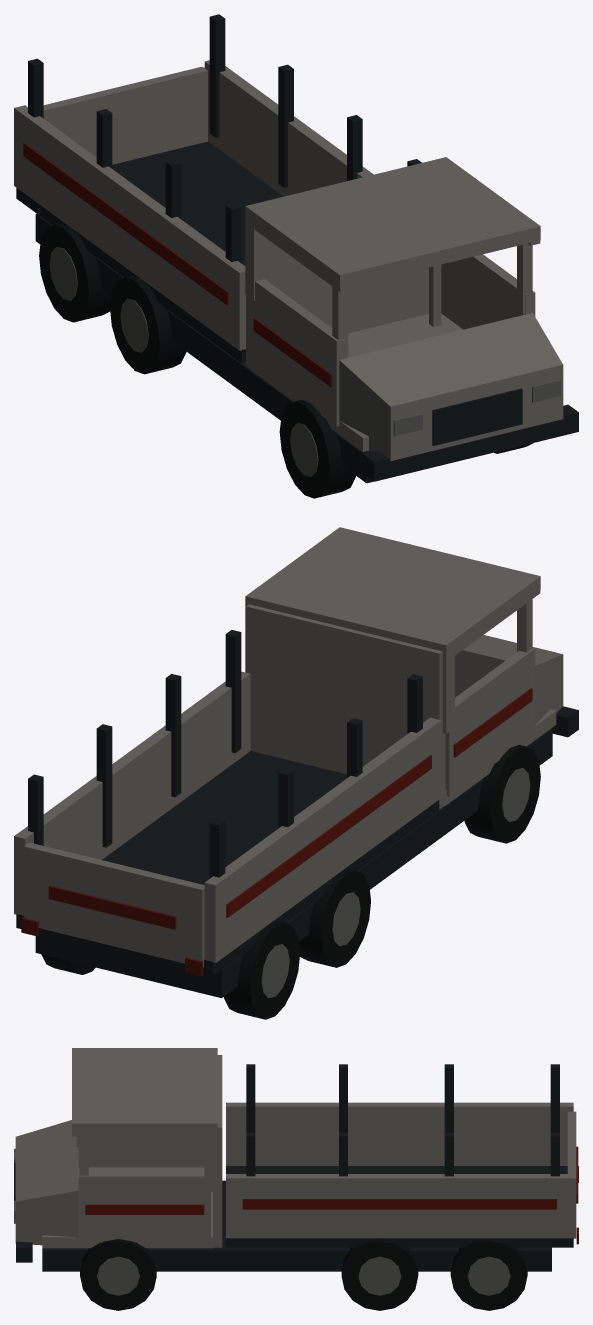
The picture shows the model from 3 angles, top to bottom: view 1: azimuth 30°, elevation 25°; view 2: azimuth 150°, elevation 25°; view 3: azimuth 270°, elevation 25°; orthographic projection. The views are drawn at different scales.
Visible parts, largest first — view 1: cargo-transport-painted, cargo-ramp-painted, wheel--1-2.7-fleet-rubber, wheel--1--1.25-fleet-rubber, wheel--1--2.9-fleet-rubber, wheel--1--2.9-fleet-edge, wheel--1-2.7-fleet-edge, wheel--1--1.25-fleet-edge; view 2: cargo-transport-painted, cargo-ramp-painted, wheel--1-2.7-fleet-rubber, wheel--1--2.9-fleet-rubber, wheel--1--1.25-fleet-rubber, wheel--1--1.25-fleet-edge, wheel--1-2.7-fleet-edge, wheel--1--2.9-fleet-edge; view 3: cargo-transport-painted, wheel-1--2.9-fleet-rubber, wheel-1--1.25-fleet-rubber, wheel-1-2.7-fleet-rubber, wheel-1--2.9-fleet-edge, wheel-1--1.25-fleet-edge, wheel-1-2.7-fleet-edge, cargo-ramp-painted.
Boxes of the visible parts, x1,y1,x2,y2 form: cargo-transport-painted: [14, 14, 578, 483]; cargo-ramp-painted: [43, 66, 207, 164]; wheel--1-2.7-fleet-rubber: [279, 399, 355, 498]; wheel--1--1.25-fleet-rubber: [110, 275, 186, 374]; wheel--1--2.9-fleet-rubber: [39, 223, 111, 322]; wheel--1--2.9-fleet-edge: [49, 247, 77, 300]; wheel--1-2.7-fleet-edge: [290, 423, 318, 476]; wheel--1--1.25-fleet-edge: [120, 299, 148, 352]; cargo-transport-painted: [14, 527, 578, 998]; cargo-ramp-painted: [23, 842, 204, 967]; wheel--1-2.7-fleet-rubber: [464, 744, 540, 843]; wheel--1--2.9-fleet-rubber: [224, 920, 300, 1019]; wheel--1--1.25-fleet-rubber: [299, 869, 370, 967]; wheel--1--1.25-fleet-edge: [332, 892, 360, 946]; wheel--1-2.7-fleet-edge: [502, 768, 530, 821]; wheel--1--2.9-fleet-edge: [261, 944, 289, 998]; cargo-transport-painted: [14, 1048, 578, 1271]; wheel-1--2.9-fleet-rubber: [450, 1238, 527, 1310]; wheel-1--1.25-fleet-rubber: [341, 1238, 418, 1310]; wheel-1-2.7-fleet-rubber: [80, 1239, 156, 1310]; wheel-1--2.9-fleet-edge: [467, 1256, 510, 1295]; wheel-1--1.25-fleet-edge: [358, 1256, 401, 1295]; wheel-1-2.7-fleet-edge: [97, 1256, 139, 1295]; cargo-ramp-painted: [567, 1111, 578, 1238].
Bounding box in the file's own units: 14.97 × 16.2 × 44.74.
